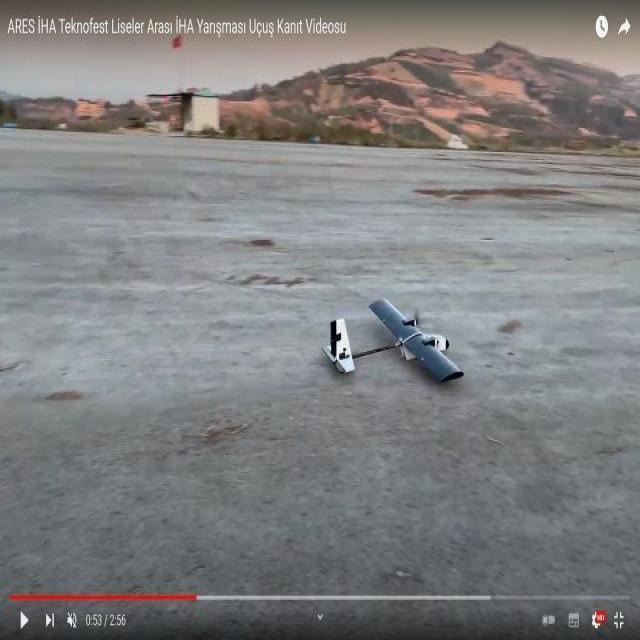iha: (306, 281, 500, 411)
